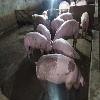heo: (35, 54, 84, 90), (21, 31, 52, 53), (54, 36, 80, 55), (57, 20, 81, 38), (79, 11, 91, 39), (35, 23, 52, 38)
